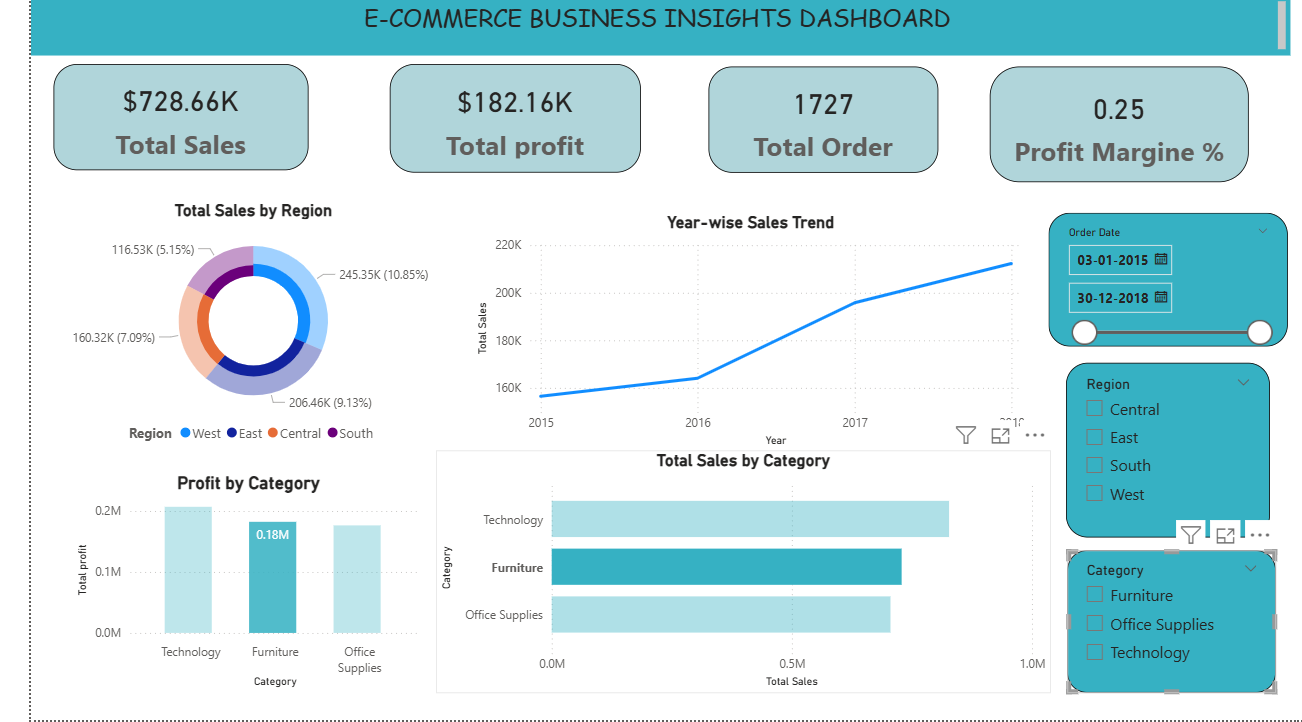

This screenshot's page, from the dashboard's own definition file:
{"tool":"powerbi","page":{"name":"Dashboard ","canvas":[1296,748],"ordinal":6},"visuals":[{"type":"card","fields":{"Values":["train.Total Sales"]},"box":[23.2,81.9,259.2,107.6],"z":0},{"type":"card","fields":{"Values":["train.Total profit"]},"box":[364.4,81.9,255.6,110.1],"z":1000},{"type":"card","fields":{"Values":["train.Total Order"]},"box":[688.5,84.4,233.6,107.6],"z":2000},{"type":"card","fields":{"Values":["train.Profit Margine %"]},"box":[974.6,84.4,262.9,117.4],"z":2001},{"type":"lineChart","title":"Year-wise Sales Trend","fields":{"Y":["train.Total Sales"],"Category":["train.Order Date.Variation.Date Hierarchy.Year","train.Order Date.Variation.Date Hierarchy.Quarter","train.Order Date.Variation.Date Hierarchy.Month","train.Order Date.Variation.Date Hierarchy.Day"]},"box":[448.8,232.3,566.2,242.1],"z":2002},{"type":"donutChart","fields":{"Category":["train.Region"],"Y":["train.Total Sales"]},"box":[41.6,207.9,407.2,255.6],"z":2003},{"type":"clusteredBarChart","fields":{"Y":["train.Total Sales"],"Category":["train.Category"]},"box":[412.1,474.5,624.9,245.8],"z":2004},{"type":"clusteredColumnChart","title":"Profit by Category","fields":{"Category":["train.Category"],"Y":["train.Total profit"]},"box":[41.6,496.5,358.3,223.8],"z":2005},{"type":"slicer","fields":{"Values":["train.Category"]},"box":[1053.2,575.5,212.2,144.8],"z":2006},{"type":"slicer","fields":{"Values":["train.Region"]},"box":[1051.9,384.9,207.1,177.9],"z":2007},{"type":"slicer","fields":{"Values":["train.Order Date"]},"box":[1034.5,232.3,243.3,135.7],"z":2008},{"type":"textbox","box":[0,12.2,1280.3,59.9],"z":2009}]}

Visuals, with their boxes on the page's 1296x748 design canvas (x1, y1, x2, y2). These are canvas units, not pixel positions in the 1302x722 screenshot, which may show the page scaled, cropped or inside an application window:
card - train.Total Sales: (23,82,282,190)
card - train.Total profit: (364,82,620,192)
card - train.Total Order: (688,84,922,192)
card - train.Profit Margine %: (975,84,1238,202)
"Year-wise Sales Trend" lineChart: (449,232,1015,474)
donutChart - train.Region x train.Total Sales: (42,208,449,464)
clusteredBarChart - train.Total Sales x train.Category: (412,474,1037,720)
"Profit by Category" clusteredColumnChart: (42,496,400,720)
slicer - train.Category: (1053,576,1265,720)
slicer - train.Region: (1052,385,1259,563)
slicer - train.Order Date: (1034,232,1278,368)
textbox: (0,12,1280,72)
